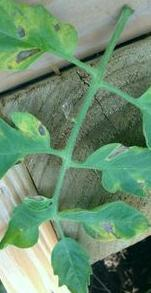Tomato Early blight leaf: (0, 0, 76, 72), (80, 142, 151, 198), (0, 191, 54, 263), (0, 111, 54, 177), (64, 201, 151, 240)
Tomato leaf: (47, 237, 94, 293)
